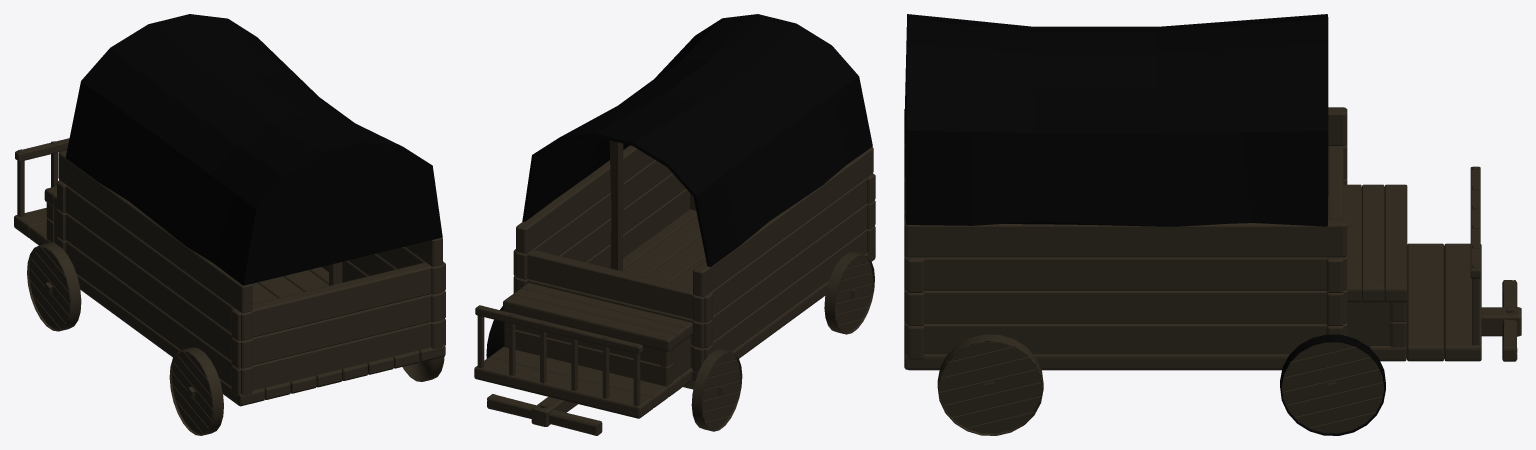
Rendered from wooden_cart_1.fbx.
3 renders of one model, left to right at view 1: azimuth 30°, elevation 25°; view 2: azimuth 150°, elevation 25°; view 3: azimuth 270°, elevation 25°, orthographic. The views are drawn at different scales.
Visible parts, largest first — view 1: cart; view 2: cart; view 3: cart.
Part boxes in pixels (x1,y1,x2,y2): cart: (14,14,445,435); cart: (474,14,875,435); cart: (904,14,1521,435).
Bounding box in the file's own units: 1294 × 1486 × 2456.
